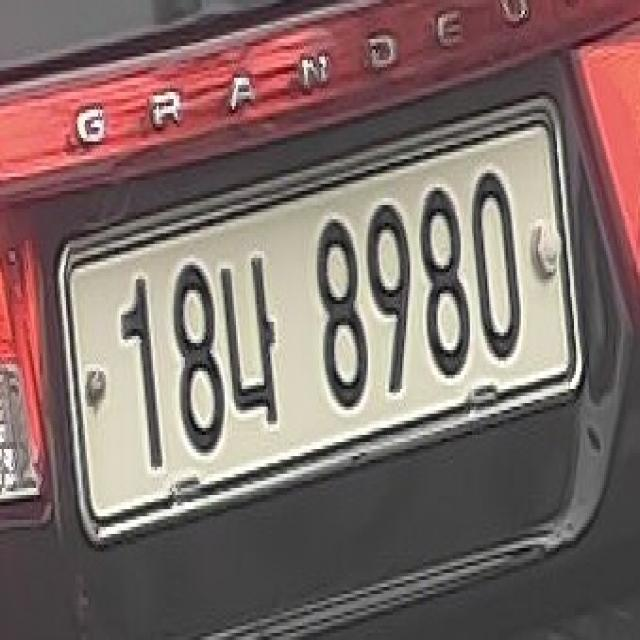0: (470, 156, 527, 371)
1: (117, 276, 166, 484)
8: (170, 248, 226, 463), (315, 205, 370, 421), (415, 177, 472, 385)
9: (368, 195, 414, 410)
license_plate: (47, 89, 595, 576)
na: (221, 247, 287, 438)
